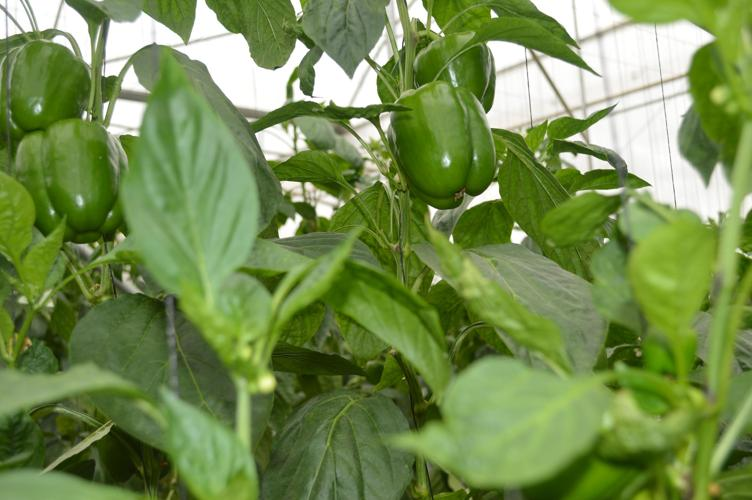BellPepper: (10, 131, 141, 242), (387, 92, 496, 210), (400, 33, 507, 105), (4, 44, 77, 130)
